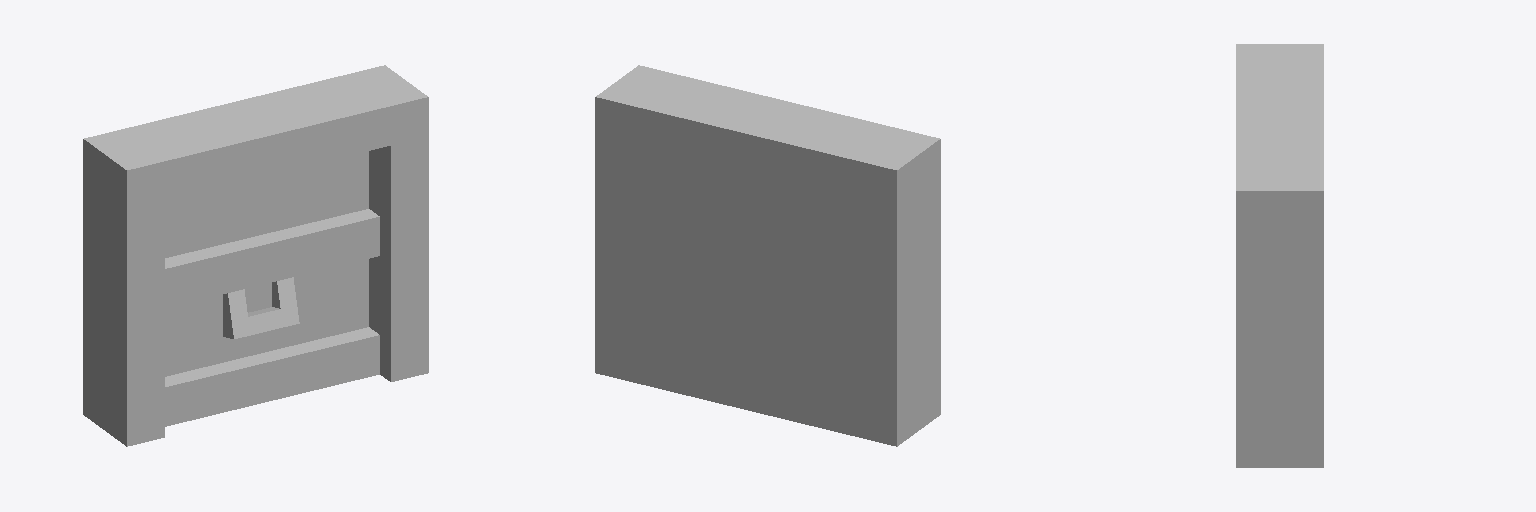
Rendered from door.obj.
3 views of the same model, side by side, from view 1: azimuth 30°, elevation 25°; view 2: azimuth 150°, elevation 25°; view 3: azimuth 270°, elevation 25° (orthographic).
Visible parts, largest first — view 1: door; view 2: door; view 3: door.
Boxes of the visible parts, x1=… form: door: x1=83, y1=65, x2=428, y2=446; door: x1=595, y1=65, x2=940, y2=446; door: x1=1236, y1=44, x2=1323, y2=467.
Bounding box in the file's own units: 0.8 × 0.7 × 0.2.